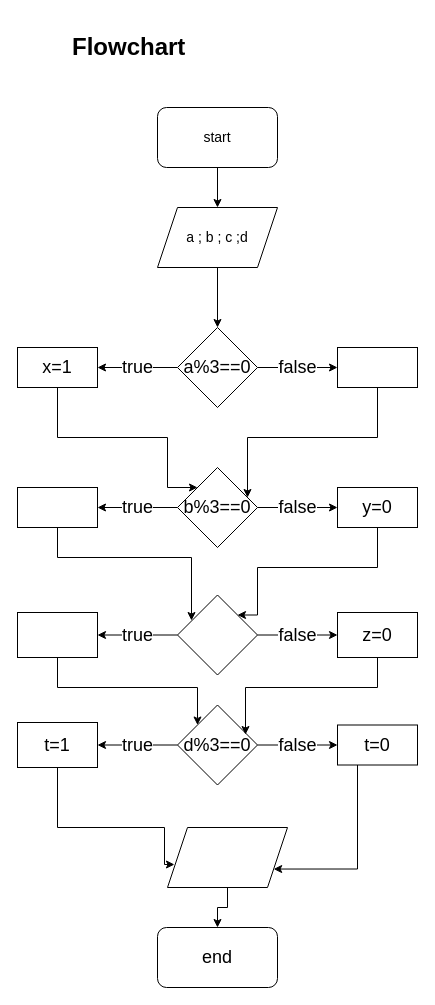
Some shapes in this 435 by 1005 pixel diagram are drawn without their labels. Here are the shapes that lost their labels. From the top down, the centre of each, then its label:
[377,367]: x=0
[57,507]: y=1
[57,635]: z=1
[217,634]: c%3==0
[227,857]: n goster n = x+y+z+d
